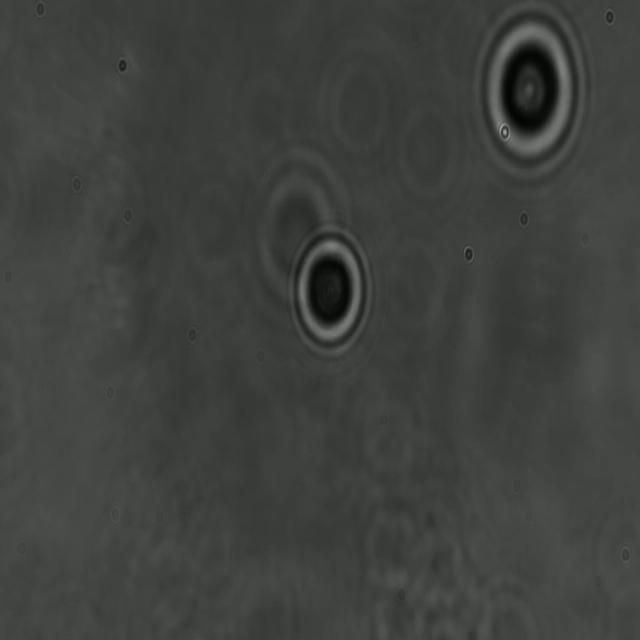DCELL: (284, 212, 377, 367)
LCELL: (466, 5, 594, 181)
